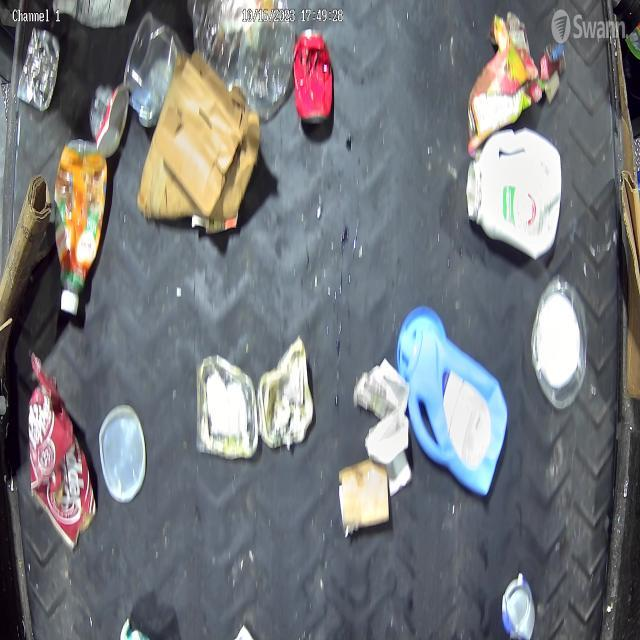can: (18, 20, 64, 109)
milk_jug: (290, 24, 336, 121)
non_white_jug: (393, 307, 511, 502)
